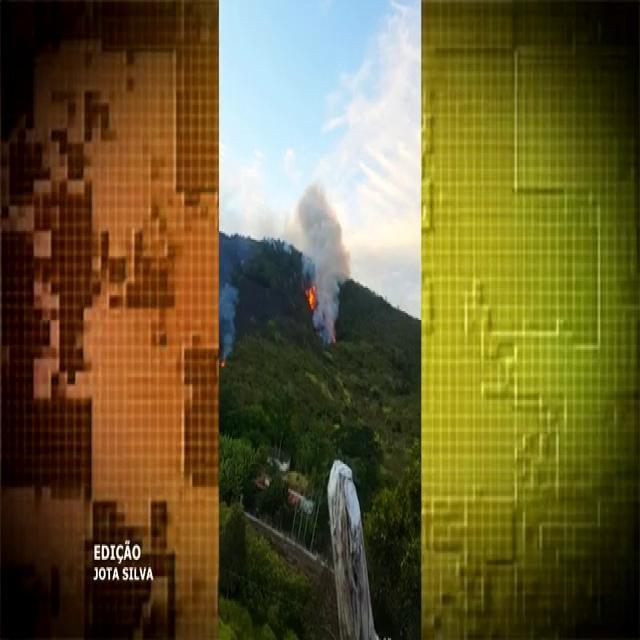Fire: (304, 284, 318, 320), (220, 354, 228, 372)
Smoke: (292, 186, 351, 342), (219, 282, 241, 358)
